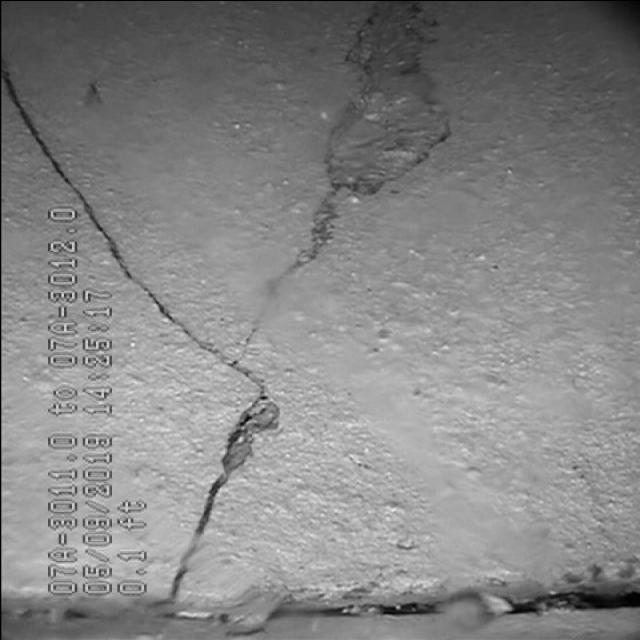Crack: (147, 291, 319, 572)
